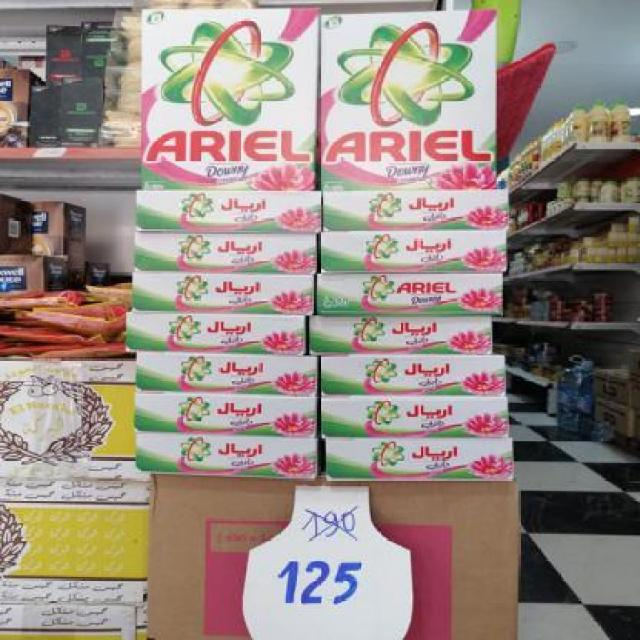Detergent: (137, 6, 317, 189), (320, 12, 492, 180), (134, 428, 318, 480), (320, 392, 511, 439), (129, 391, 316, 438), (324, 437, 514, 481), (315, 231, 508, 274), (322, 187, 510, 231), (132, 188, 319, 232), (322, 230, 503, 275), (306, 313, 492, 356), (314, 271, 495, 315), (132, 272, 312, 316), (121, 313, 317, 352), (132, 234, 316, 274), (315, 357, 503, 394), (136, 234, 316, 272), (138, 354, 310, 392)
